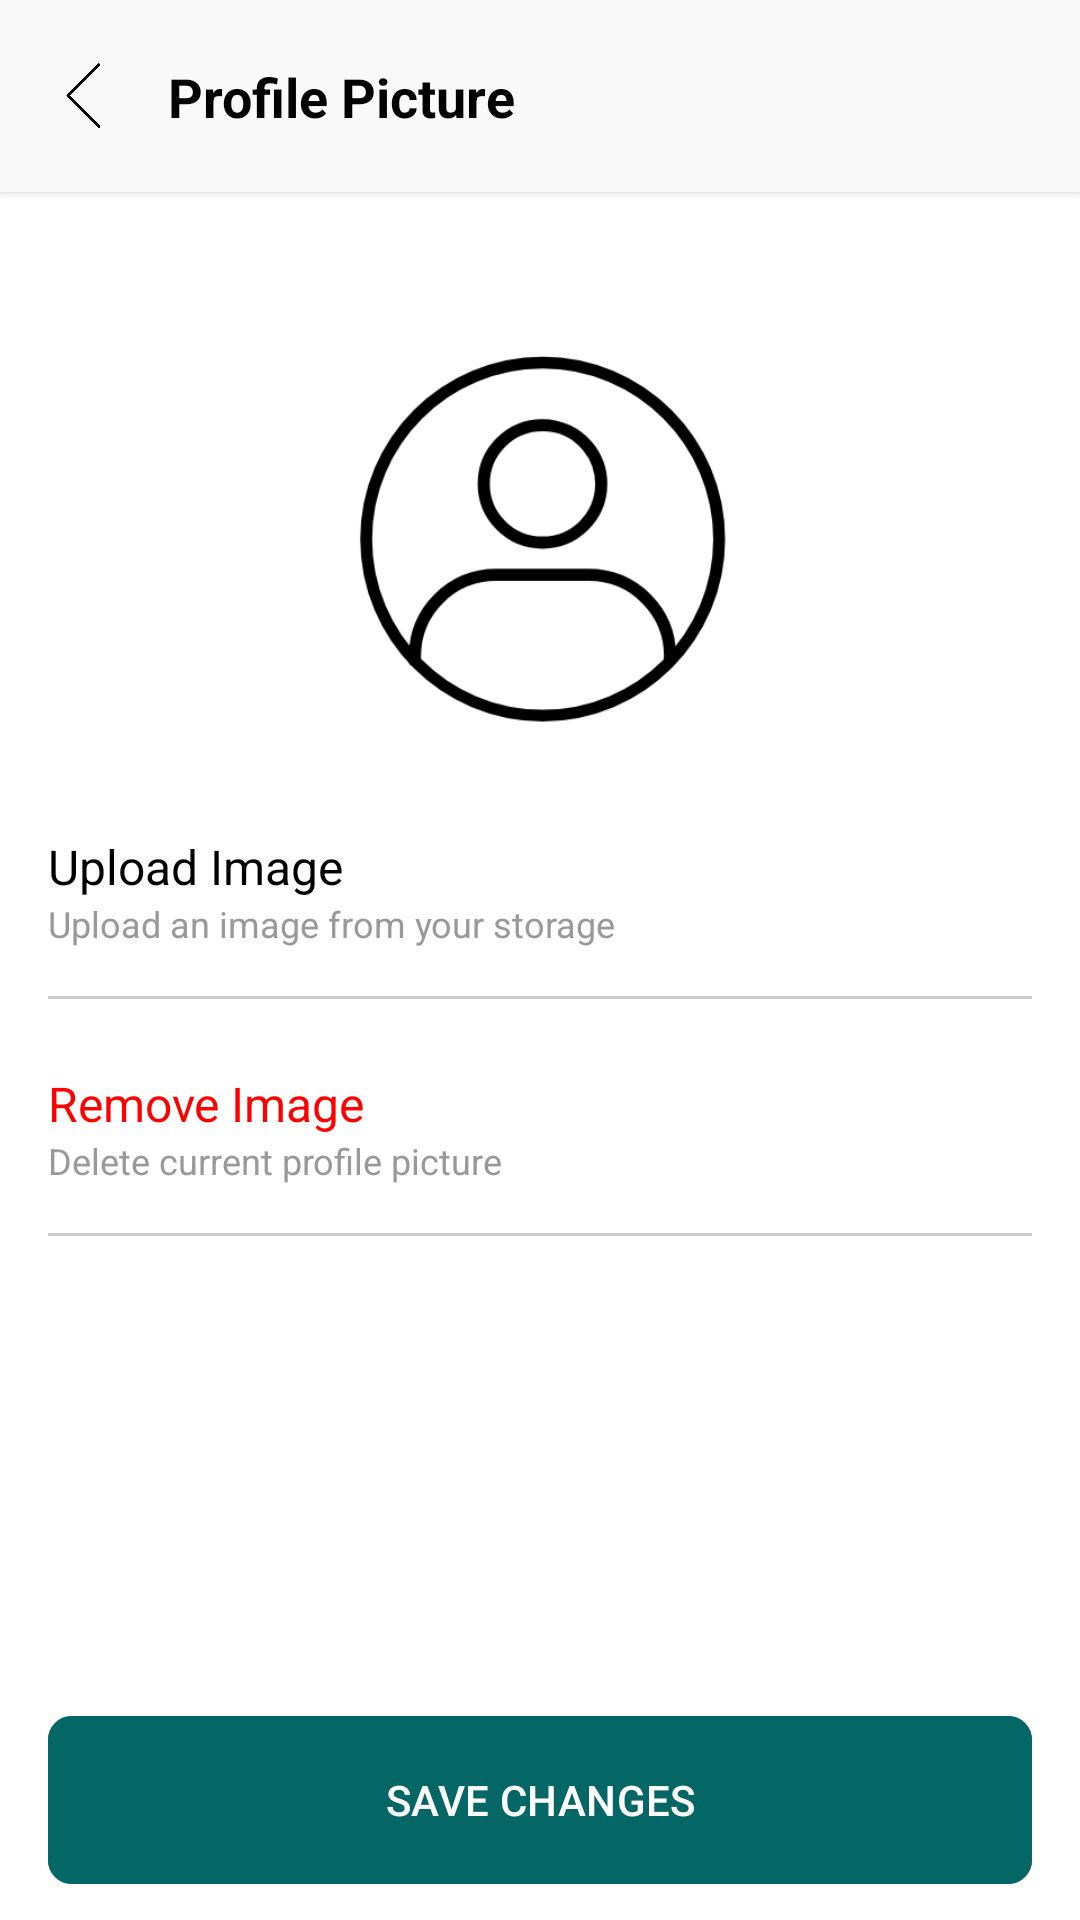

Where to tap for icons on this 1080px×1920px app screen, as (x,y):
Back: (83,95)
